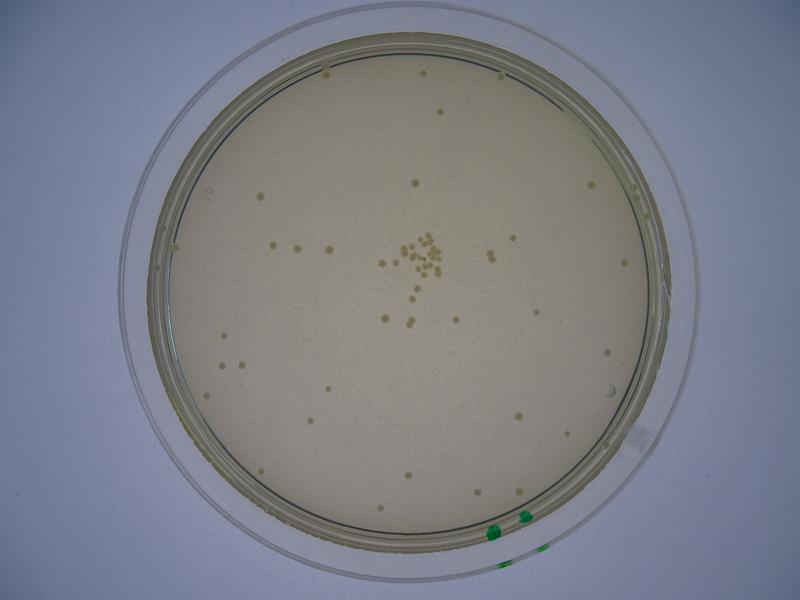colony: (377, 310, 392, 323), (303, 413, 316, 427), (432, 106, 448, 117), (409, 176, 421, 190), (291, 242, 303, 255), (323, 381, 334, 395), (616, 258, 630, 269), (586, 178, 596, 193), (514, 409, 524, 424), (472, 485, 484, 497), (508, 230, 519, 243), (449, 312, 460, 325), (202, 390, 213, 403), (325, 242, 335, 256), (216, 359, 227, 371), (514, 484, 525, 496), (256, 190, 266, 203), (600, 347, 614, 356), (217, 330, 229, 340), (530, 308, 542, 318), (419, 67, 429, 78), (401, 469, 412, 479), (374, 501, 385, 511), (267, 240, 277, 250), (237, 361, 249, 369)
